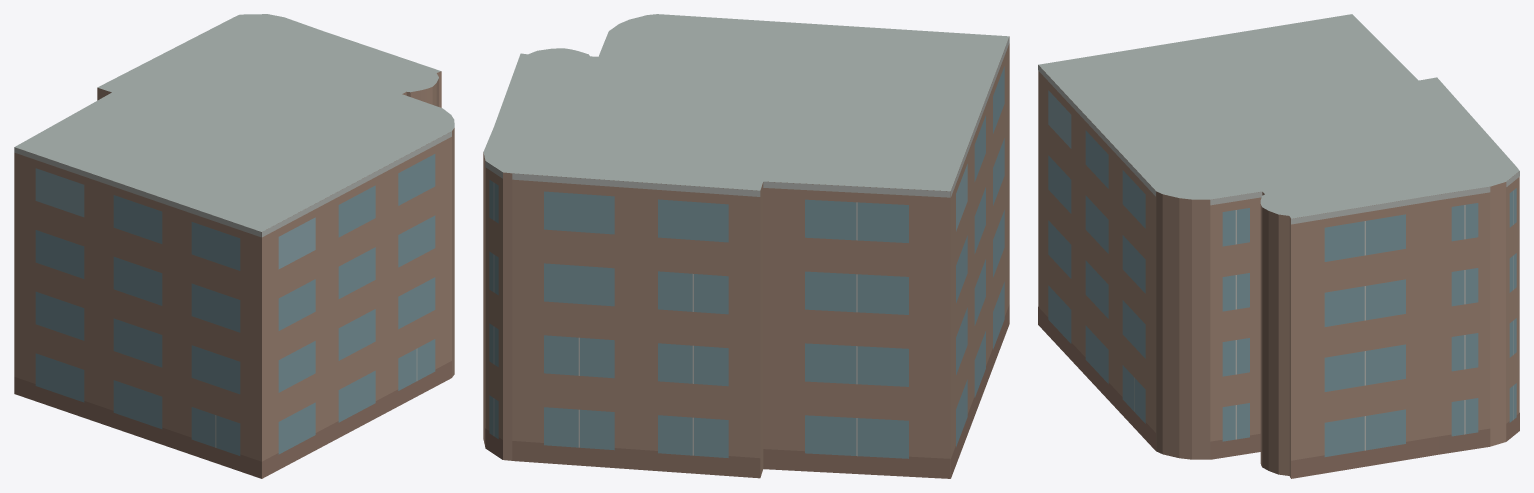
File: survey-upis-32668205.glb
3 renders of one model, left to right at view 1: azimuth 30°, elevation 25°; view 2: azimuth 150°, elevation 25°; view 3: azimuth 270°, elevation 25°, orthographic. The views are drawn at different scales.
Visible parts, largest first — view 1: survey-upis-32668205.tmp; view 2: survey-upis-32668205.tmp; view 3: survey-upis-32668205.tmp.
Part boxes in pixels (bbox=[...]): survey-upis-32668205.tmp: bbox=[14, 14, 454, 478]; survey-upis-32668205.tmp: bbox=[483, 14, 1009, 478]; survey-upis-32668205.tmp: bbox=[1038, 14, 1519, 478].
Size of the model in its own units: 18.58 by 11 by 18.46.
